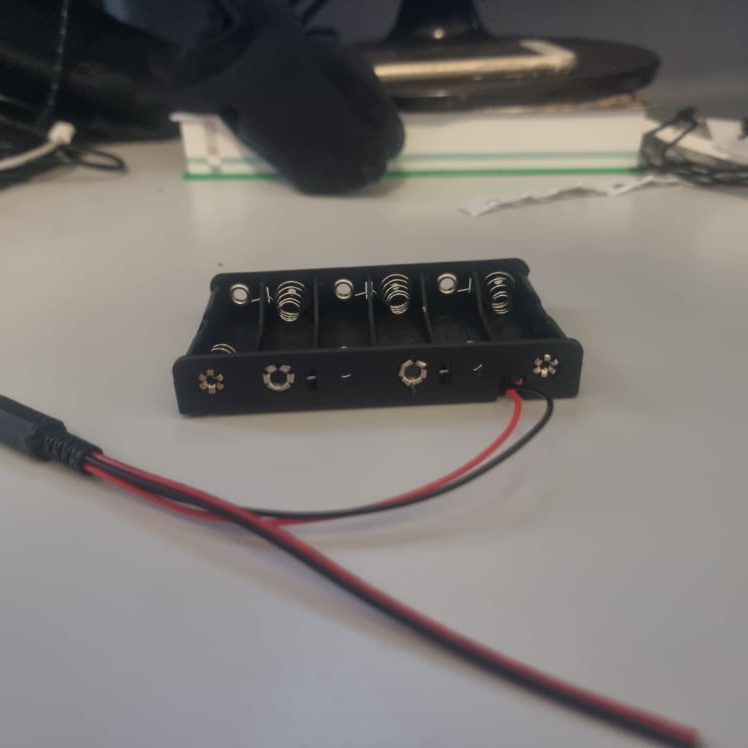BATTERY BOX: (171, 254, 584, 425)
